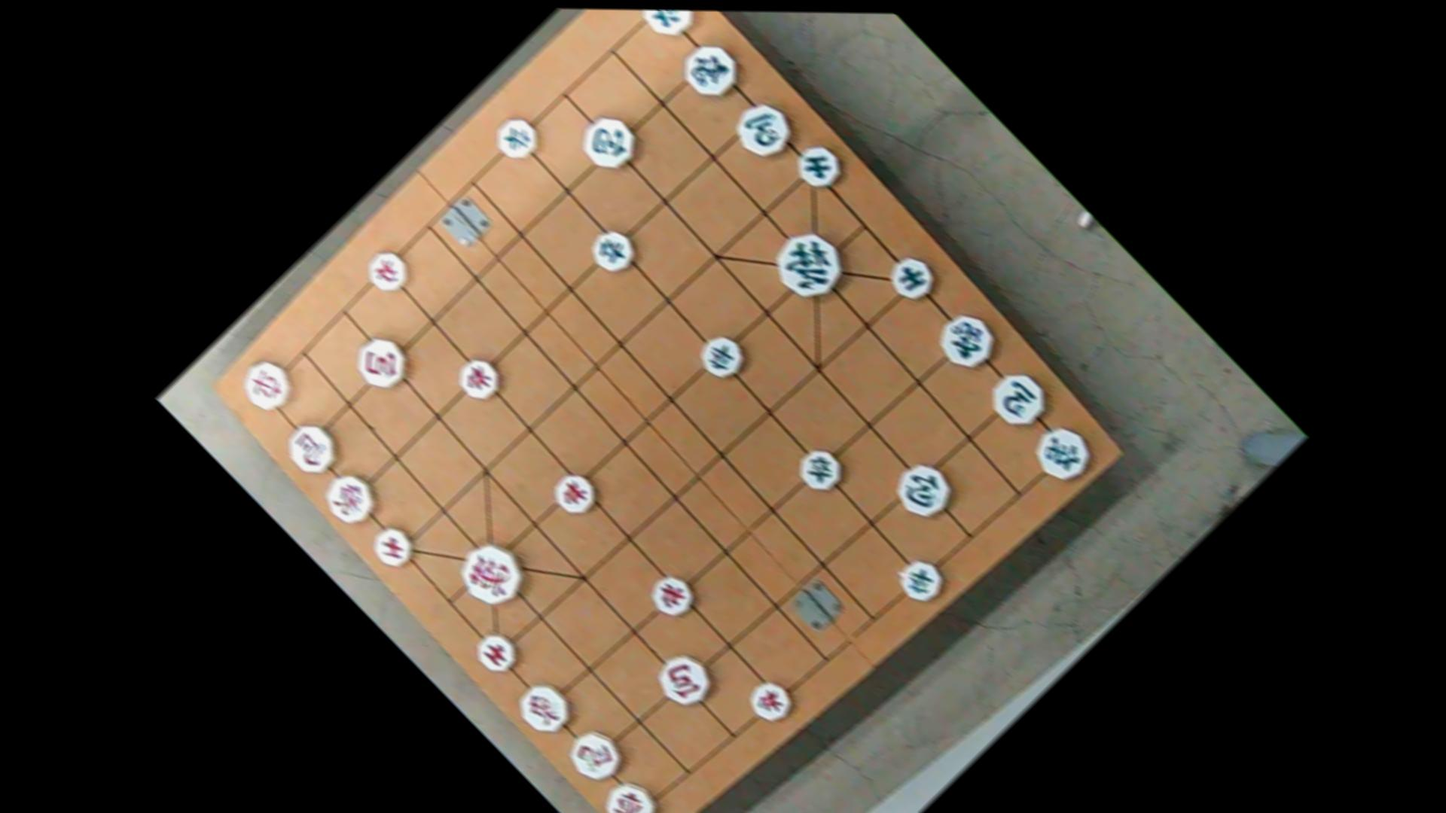cha_green: (1025, 418, 1100, 491), (634, 9, 706, 46)
cha_red: (235, 352, 303, 418), (594, 771, 665, 813)
jol_green: (687, 323, 752, 387), (792, 439, 853, 500), (889, 550, 951, 610), (583, 220, 643, 279), (490, 109, 546, 164)
jol_red: (645, 568, 703, 624), (743, 673, 799, 728), (546, 464, 602, 518), (363, 245, 419, 299), (451, 351, 507, 405)
ma_green: (727, 92, 803, 166), (982, 362, 1057, 434)
ma_red: (562, 723, 632, 791), (278, 413, 346, 479)
po_green: (889, 453, 961, 524), (572, 106, 644, 176)
po_red: (651, 646, 721, 714), (349, 330, 417, 396)
sa_green: (881, 248, 941, 306), (791, 140, 850, 196)
sa_red: (464, 620, 528, 683), (366, 518, 422, 572)
sang_green: (927, 303, 1008, 380), (673, 33, 747, 105)
sang_red: (511, 676, 581, 743), (320, 464, 389, 531)
wang_green: (765, 221, 853, 308)
wang_red: (452, 531, 534, 611)
